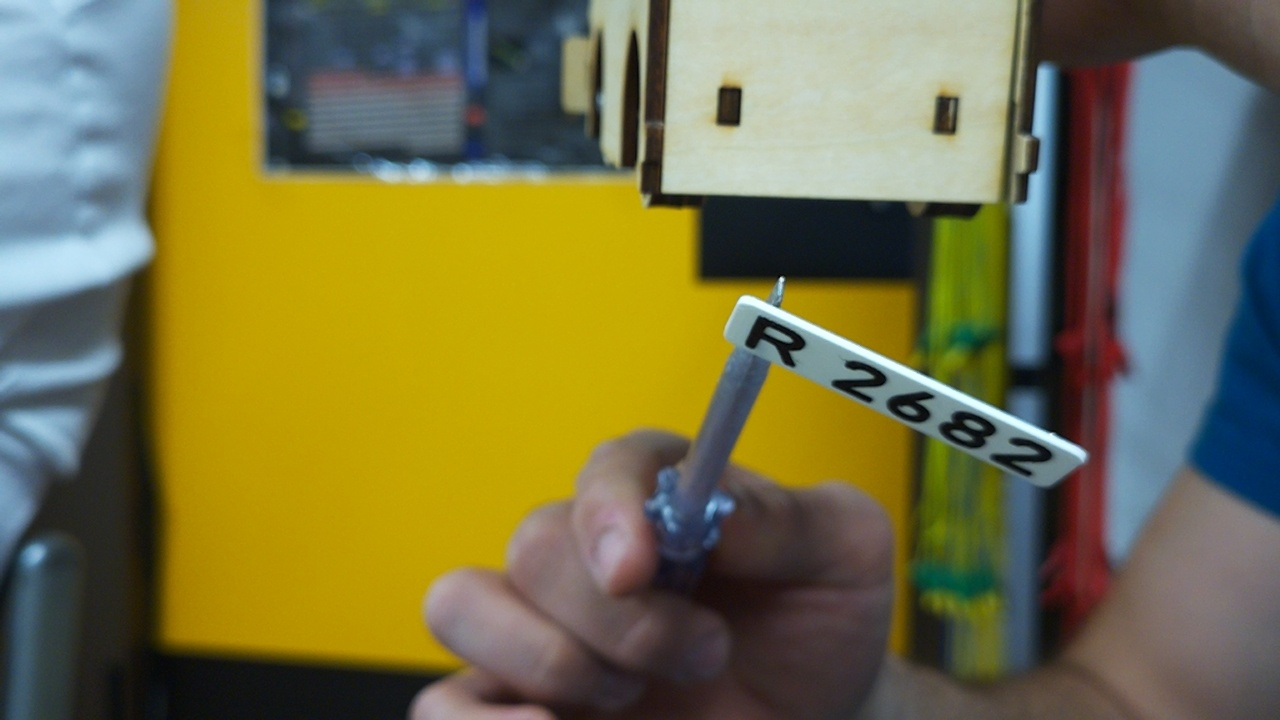license_plate: (720, 292, 1093, 494)
